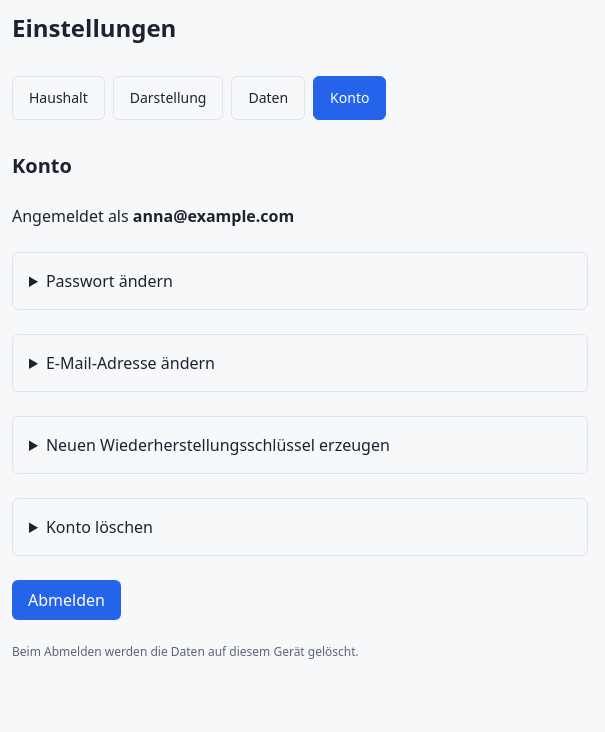
Test: Einstellungen: Konto › Passwort ändern: übergibt altes und neues Passwort, meldet Erfolg und leert die Felder
Expected: the heading "Konto" is shown, [12,152,72,179]
Step 1. Click the heading "Passwort ändern" → (109, 281), box [46,270,173,292]
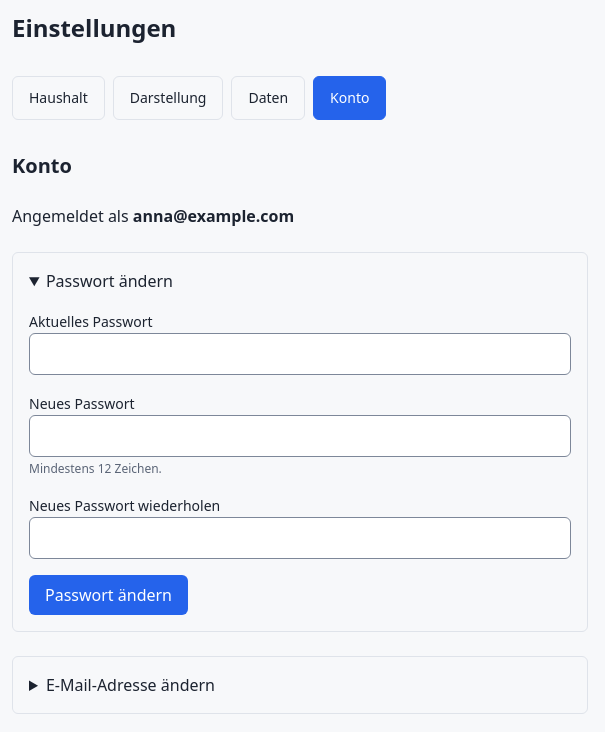
Step 2. Type "Altes-Passwort-123" into the password field labelled "Aktuelles Passwort" → (300, 354), box [29,333,571,375]
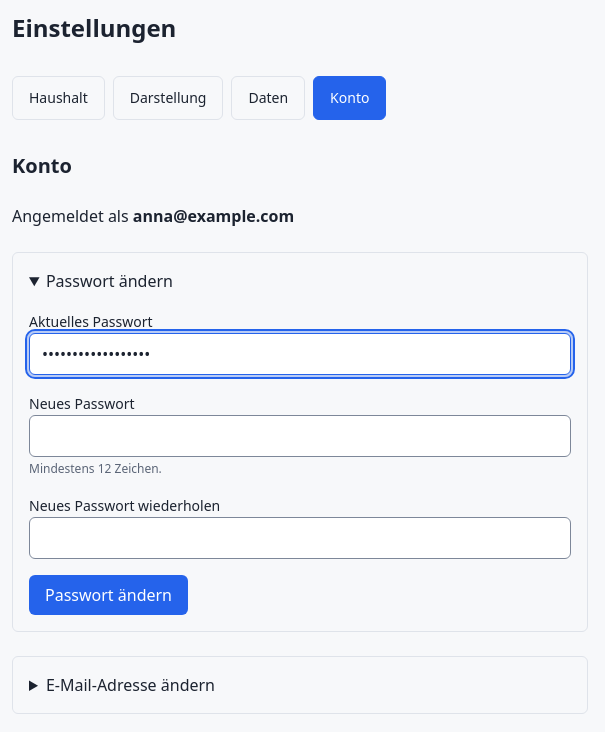
Step 3. Type "Neues-Passwort-456" into the password field labelled "Neues Passwort" → (300, 436), box [29,415,571,457]
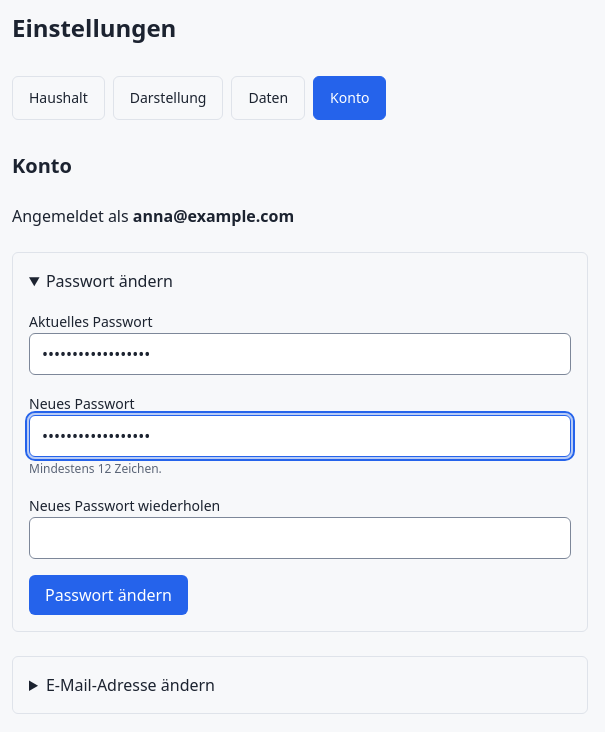
Step 4. Type "Neues-Passwort-456" into the password field labelled "Neues Passwort wiederholen" → (300, 538), box [29,517,571,559]
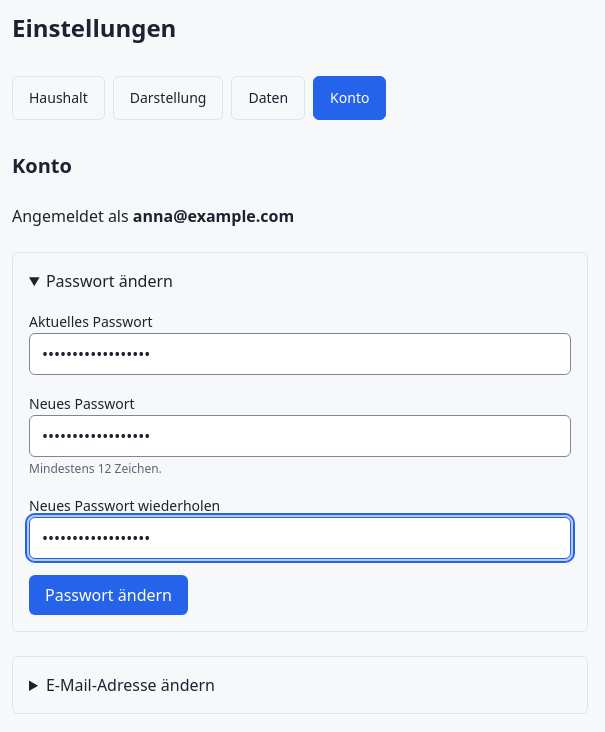
Step 5. Click the button "Passwort ändern" → (108, 595), box [29,575,188,615]
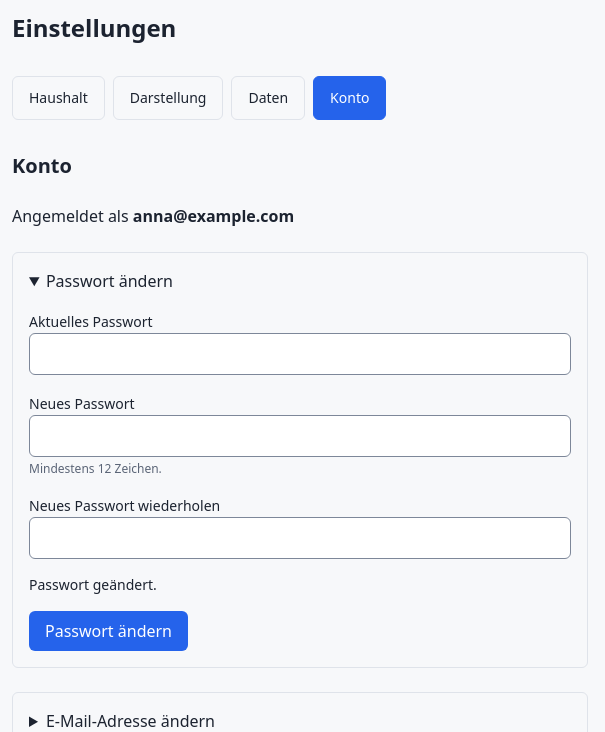
Expected: the message reads "Passwort geändert.", [29,575,157,594]
Expected: the password field labelled "Aktuelles Passwort" is empty, [29,333,571,375]
Expected: the password field labelled "Neues Passwort wiederholen" is empty, [29,517,571,559]
